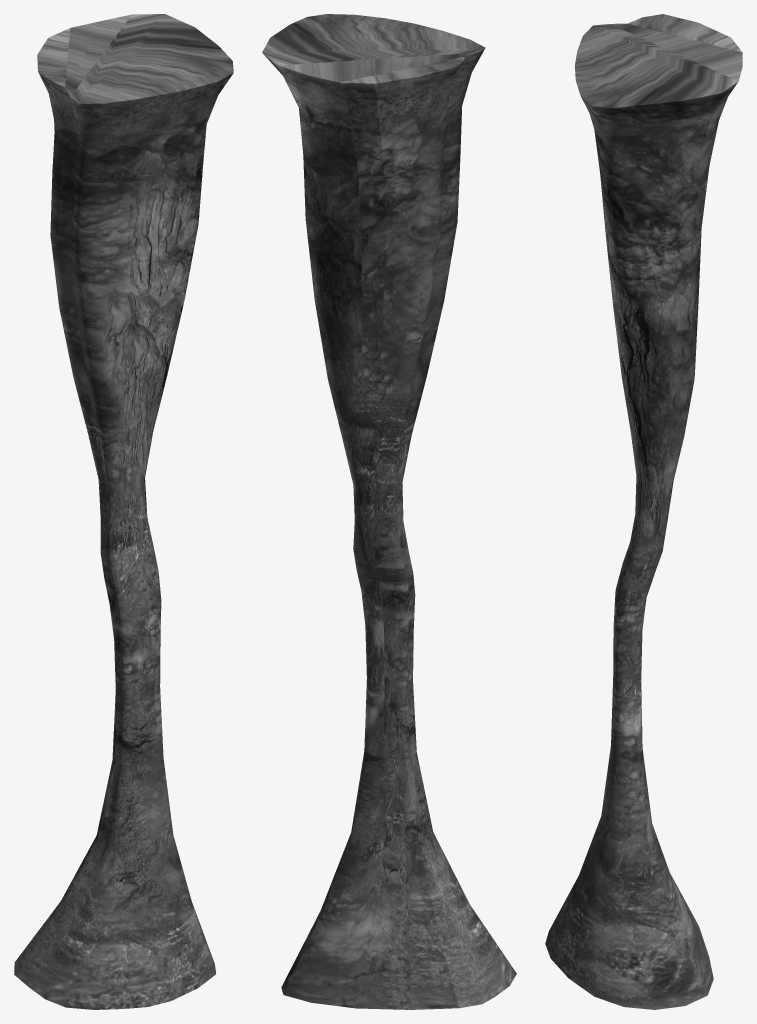
File: rockformation5.obj
3 views of the same model, side by side, from view 1: azimuth 30°, elevation 25°; view 2: azimuth 150°, elevation 25°; view 3: azimuth 270°, elevation 25° (orthographic). The views are drawn at different scales.
Visible parts, largest first — view 1: rockformation5; view 2: rockformation5; view 3: rockformation5.
Part boxes in pixels (box(x1,y1,x2,y2)): rockformation5: box(14, 14, 233, 1009); rockformation5: box(262, 14, 516, 1009); rockformation5: box(545, 14, 742, 1009).
Size of the model in its own units: 71.73 by 323 by 63.
Materials: 1 (1 with a texture image).
